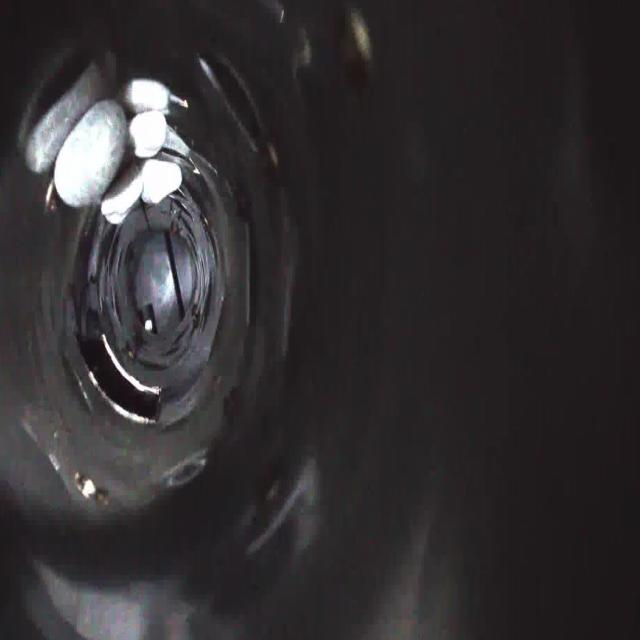crack: (83, 215, 121, 317), (126, 171, 198, 222), (202, 227, 232, 341), (140, 347, 190, 371)
hole: (76, 334, 164, 434)
